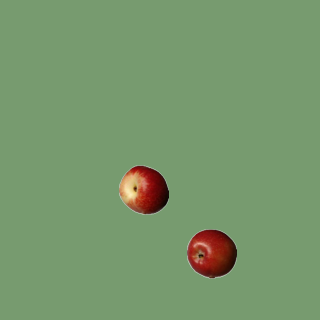Apple Braeburn: (186, 228, 236, 278)
Nectarine: (118, 164, 168, 214)
